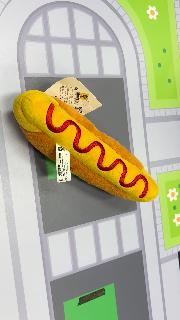hotdog: (13, 89, 160, 203)
